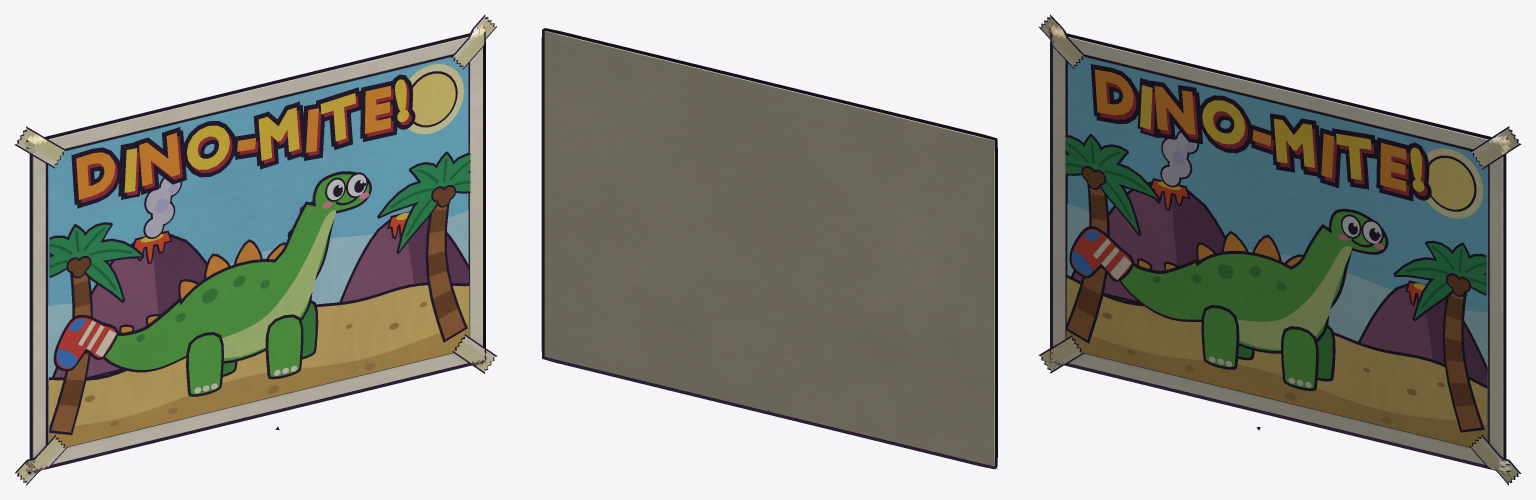
The model's file is PosterDino.glb.
3 renders of one model, left to right at view 1: azimuth 30°, elevation 25°; view 2: azimuth 150°, elevation 25°; view 3: azimuth 330°, elevation 25°, orthographic.
Visible parts, largest first — view 1: PosterDino, PosterDino_Outline; view 2: PosterDino, PosterDino_Outline; view 3: PosterDino, PosterDino_Outline.
Part boxes in pixels (box(x1,y1,x2,y2)): PosterDino: box(14, 14, 497, 485); PosterDino_Outline: box(29, 32, 485, 471); PosterDino: box(544, 31, 997, 469); PosterDino_Outline: box(541, 28, 997, 469); PosterDino: box(1038, 14, 1521, 485); PosterDino_Outline: box(1050, 31, 1506, 471).
Bounding box in the file's own units: 13.98 × 9.95 × 1.12.
Materials: 2 (2 with a texture image).
